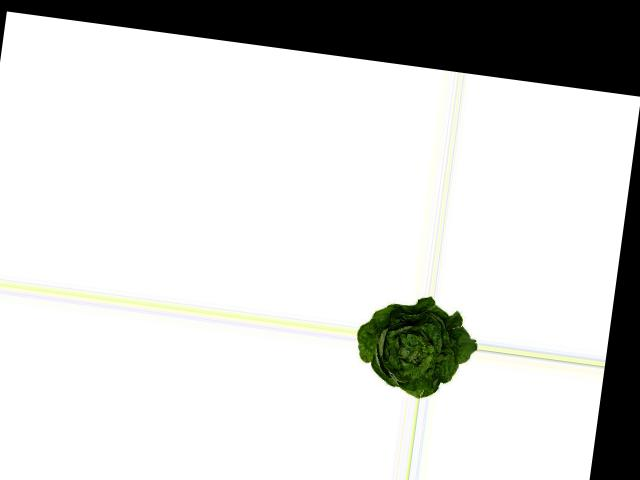lettuce: (349, 287, 479, 403)
